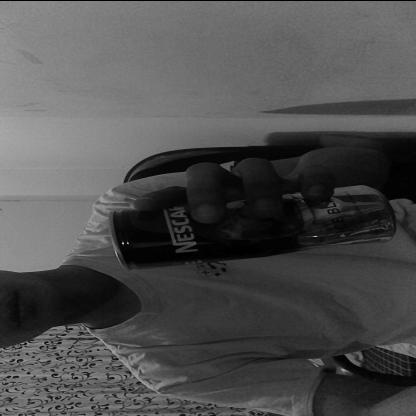alumunium_can: (102, 181, 397, 271)
